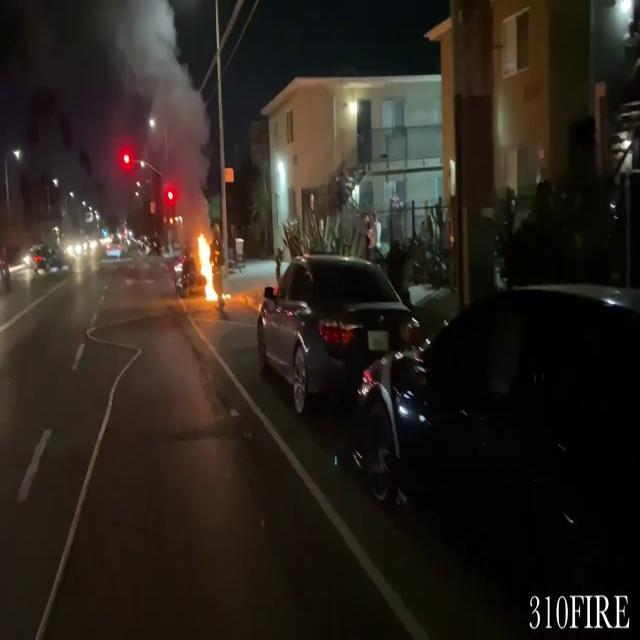Fire: (194, 227, 222, 305)
Smoke: (112, 0, 214, 222)
